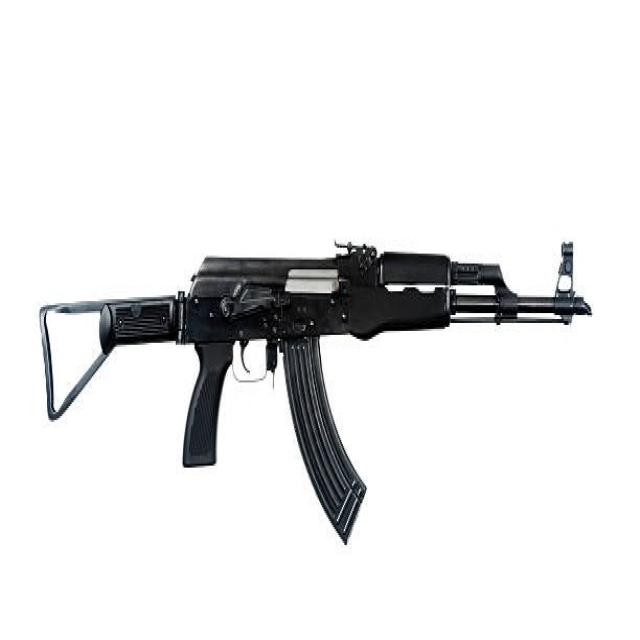rifle: (42, 218, 601, 562)
